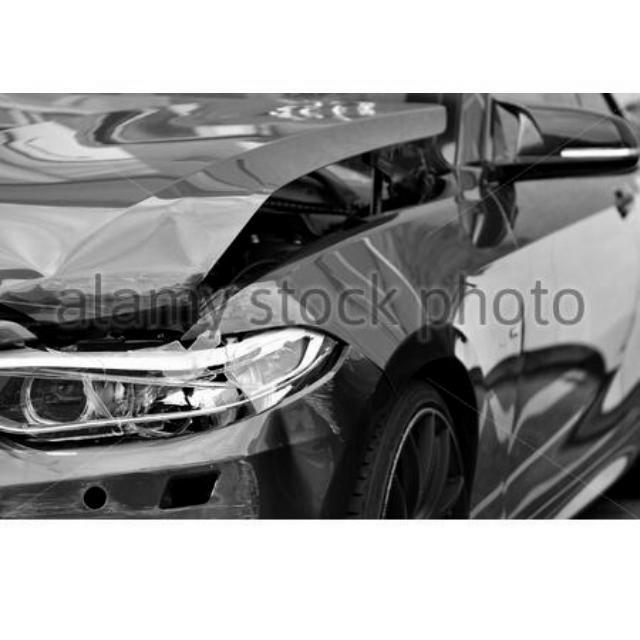Headlight-damage: (1, 305, 360, 444)
bonnet-dent: (0, 93, 248, 324)
fender-dent: (359, 205, 461, 415)
